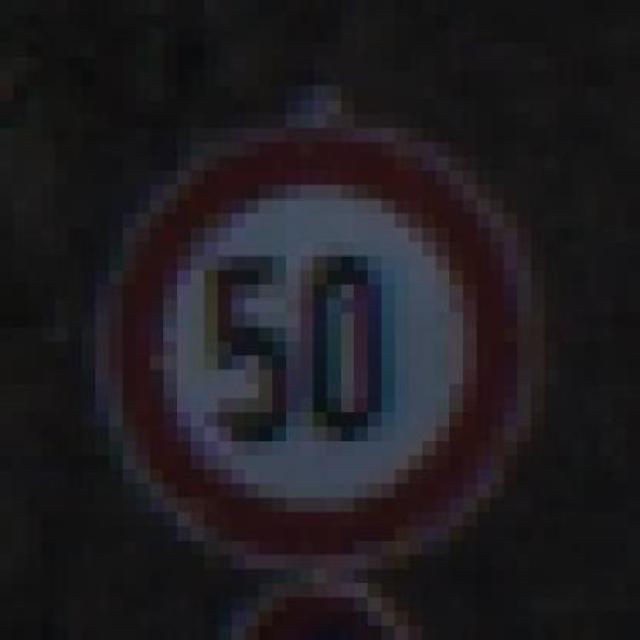forb_speed_over_50: (125, 132, 527, 556)
